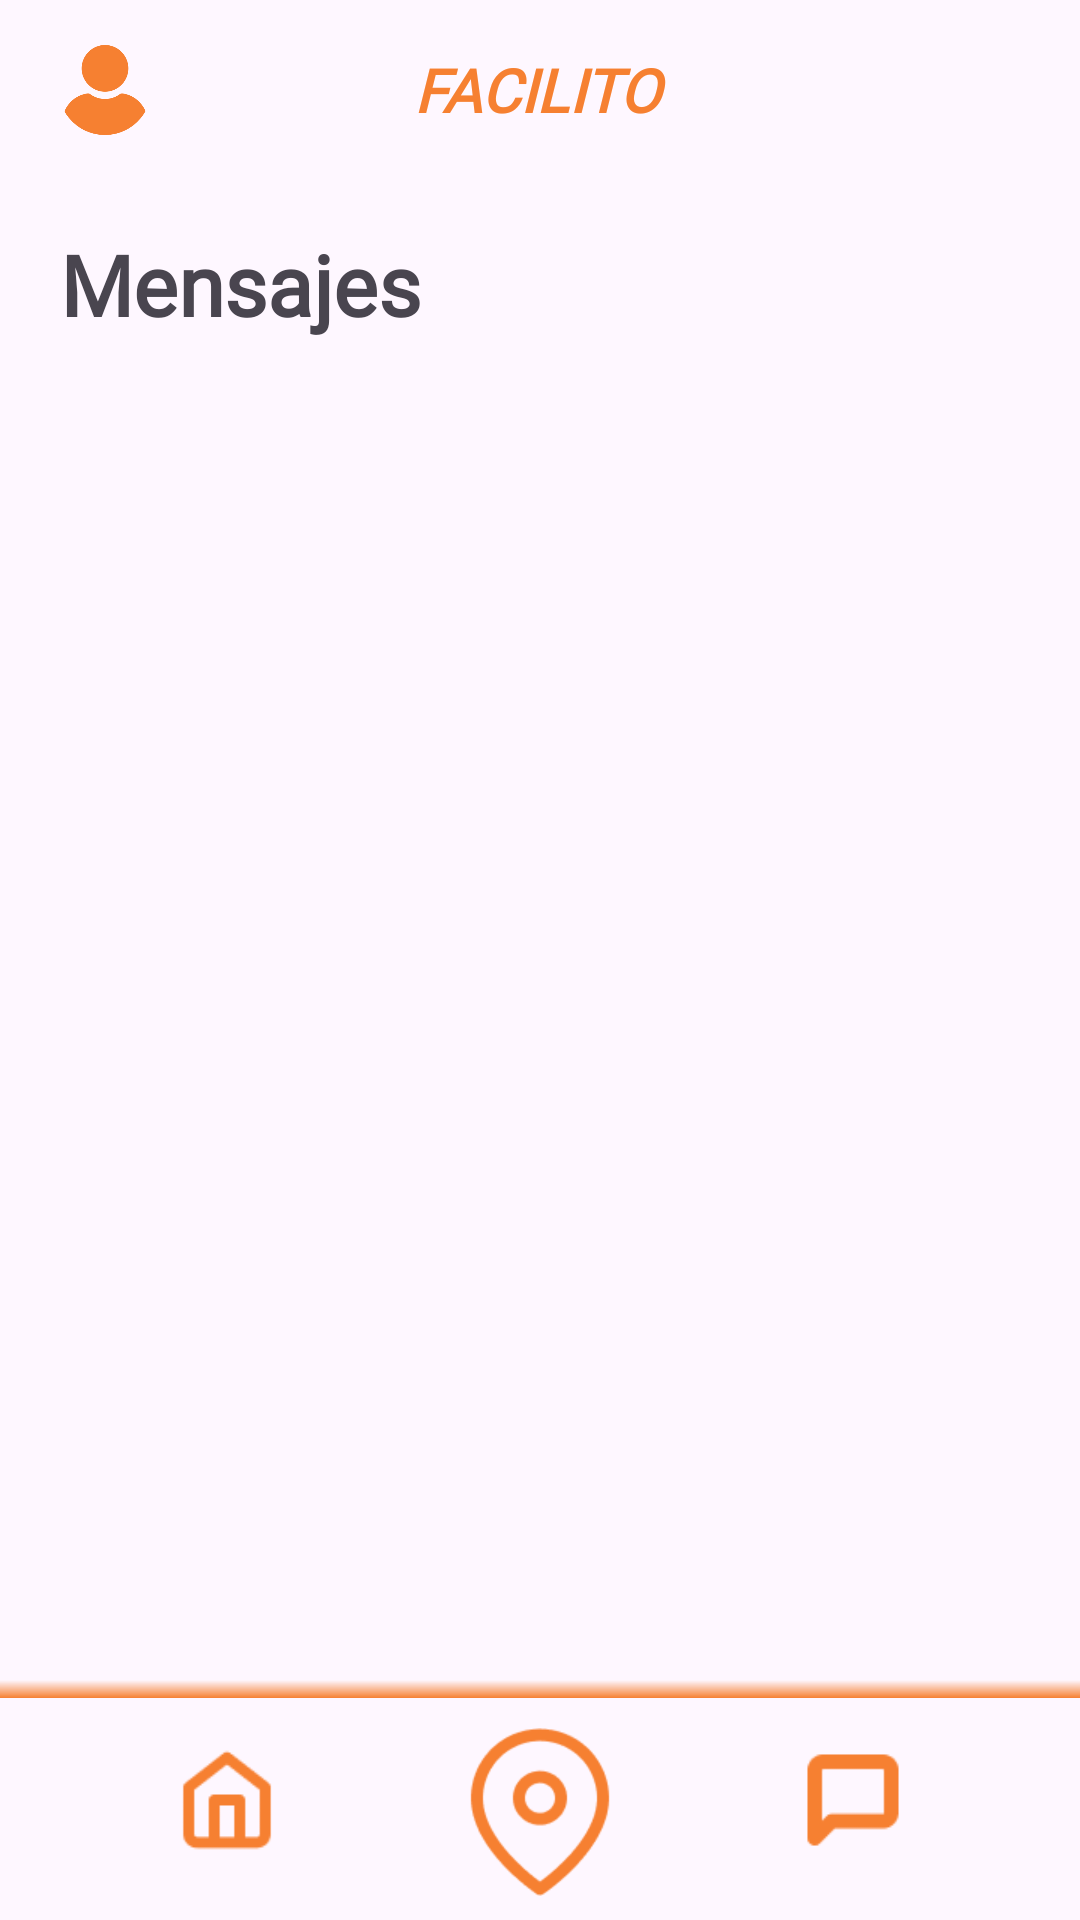

Where icons sit on this 1080x1920 app screen, as (x1, y1, x2, y2):
Usuario: (64, 45, 145, 135)
